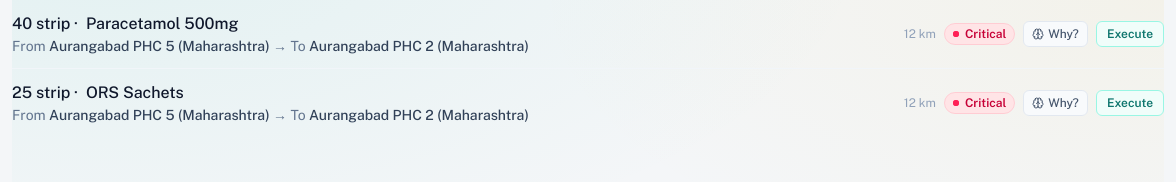
Test case: RedistributionList › disables other rows while one is executing, preventing a parallel double-transfer
Click the button "Execute" in the row of "Paracetamol 500mg": click(1130, 34) left=1096, top=21, right=1164, bottom=47
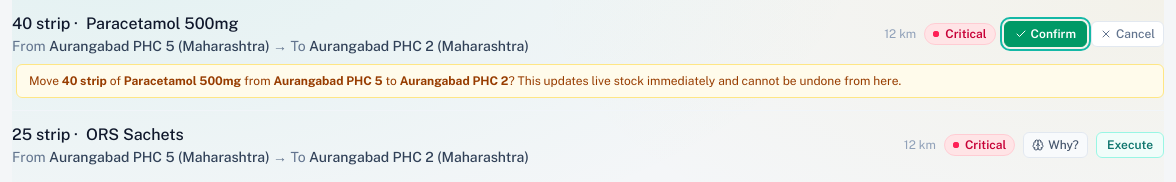
Click the button "Confirm": click(1045, 34) left=1004, top=21, right=1087, bottom=47
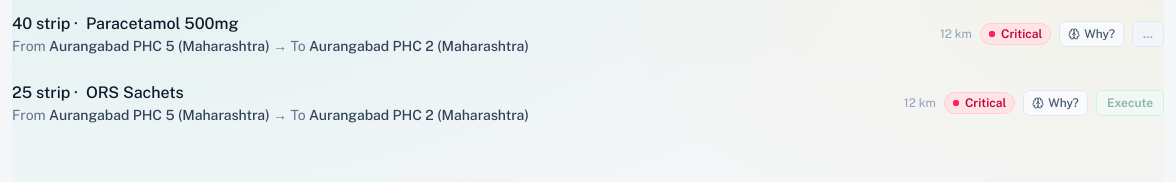
Expected: the button "Execute" is disabled, left=1096, top=90, right=1164, bottom=116
